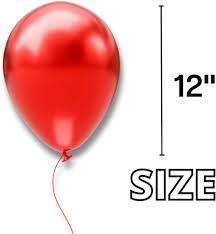red: (4, 1, 120, 151)
